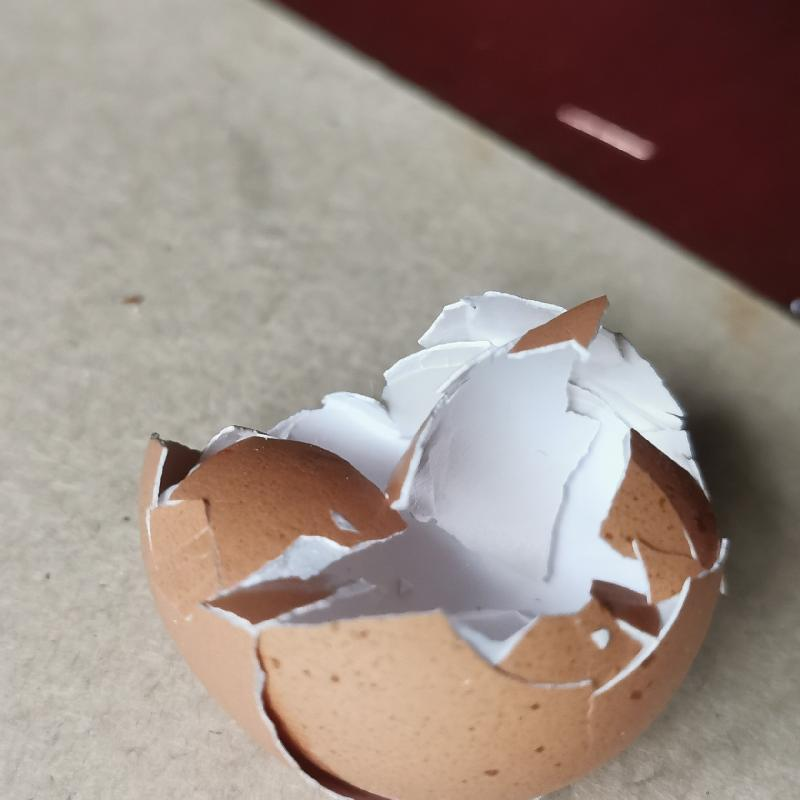eggshell: (138, 286, 732, 800)
